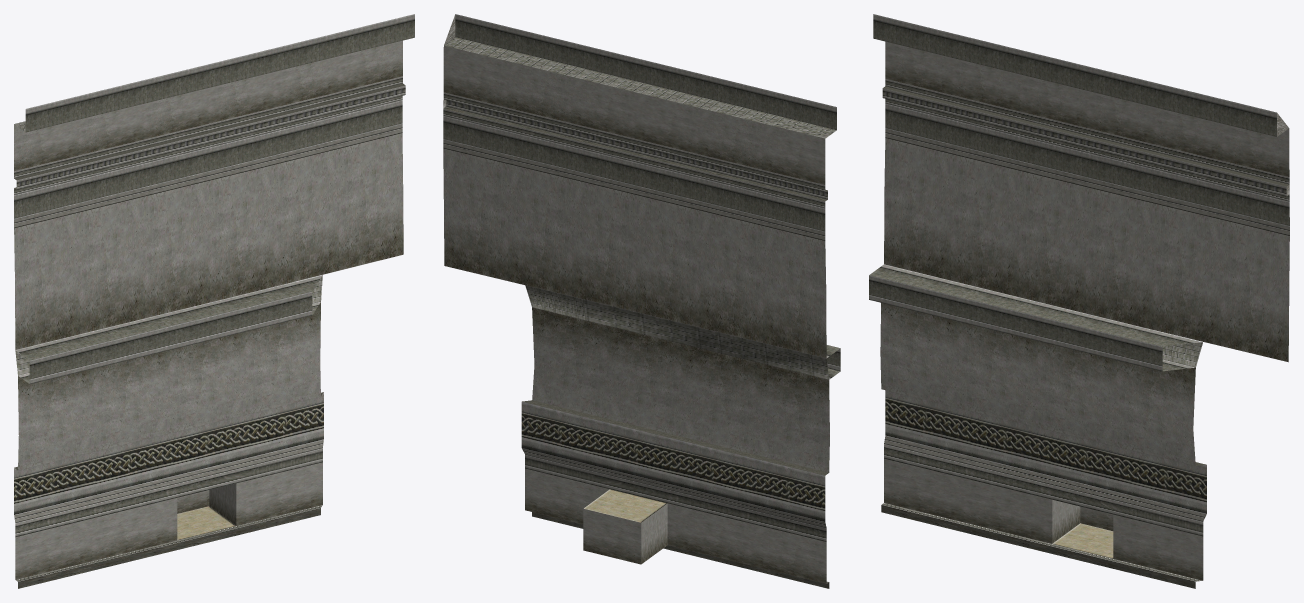
Rendered from DWARF_PALACE_WATER_ROOM_WALL01A01.fbx.
3 views of the same model, side by side, from view 1: azimuth 30°, elevation 25°; view 2: azimuth 150°, elevation 25°; view 3: azimuth 330°, elevation 25° (orthographic). The views are drawn at different scales.
Visible parts, largest first — view 1: DWARF_PALACE_WATER_ROOM_WALL01A01; view 2: DWARF_PALACE_WATER_ROOM_WALL01A01; view 3: DWARF_PALACE_WATER_ROOM_WALL01A01.
Boxes of the visible parts, x1,y1,x2,y2 form: DWARF_PALACE_WATER_ROOM_WALL01A01: (14, 14, 414, 588); DWARF_PALACE_WATER_ROOM_WALL01A01: (443, 14, 840, 588); DWARF_PALACE_WATER_ROOM_WALL01A01: (869, 14, 1289, 588).
Size of the model in its own units: 171850 by 205000 by 31748.
Materials: 10 (10 with a texture image).
